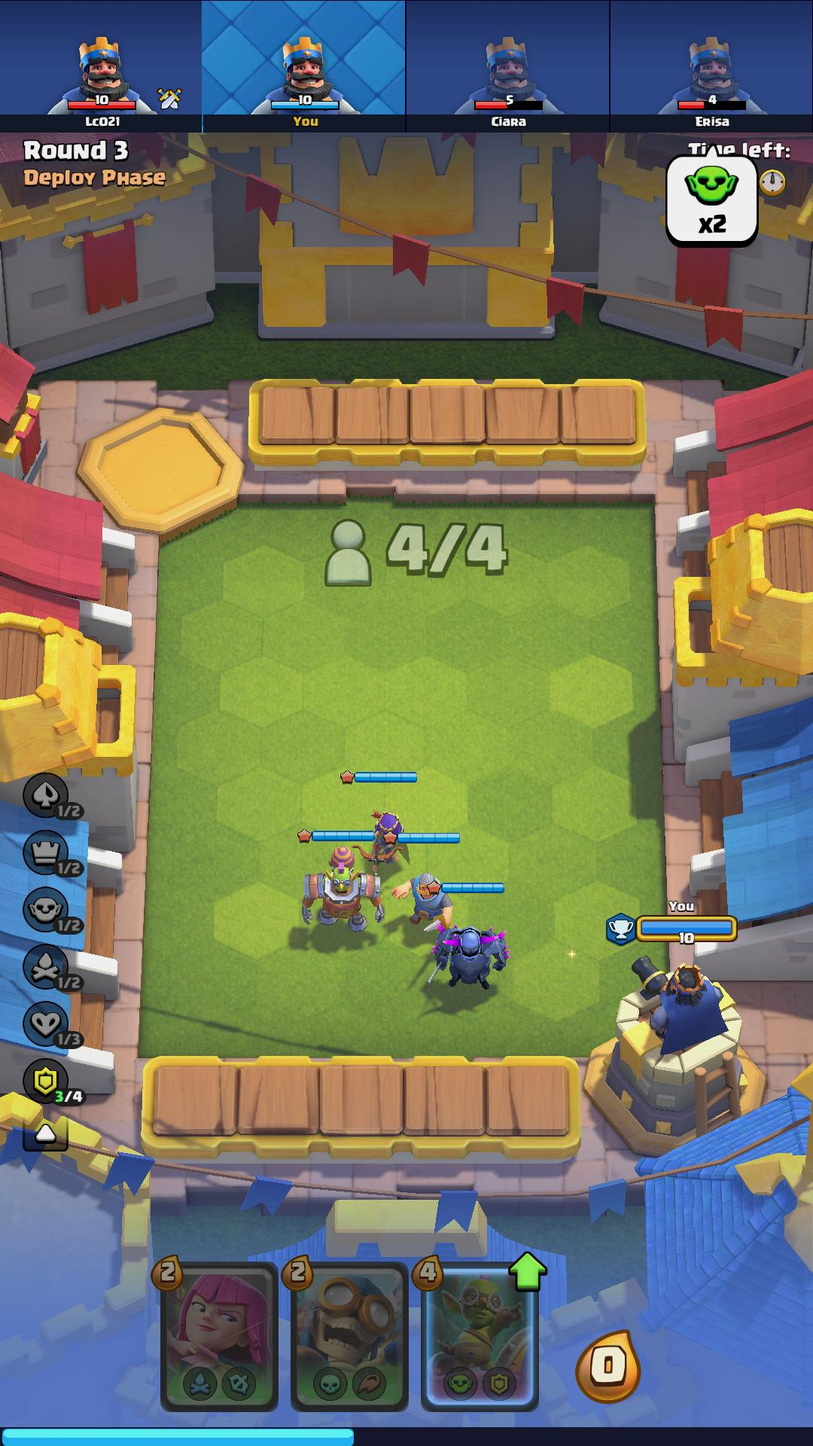hand-archer: (162, 1261, 277, 1408)
hand-bomber: (290, 1259, 408, 1412)
hand-machine: (426, 1262, 536, 1405)
knight: (397, 861, 453, 935)
machine: (301, 843, 388, 939)
pekka: (431, 918, 507, 995)
queen: (361, 800, 413, 876)
upgrade: (511, 1248, 548, 1293)
